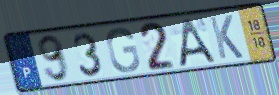2: (138, 20, 177, 73)
3: (72, 31, 103, 78)
9: (35, 33, 71, 84)
A: (177, 16, 218, 68)
G: (104, 26, 142, 74)
K: (207, 13, 245, 61)
